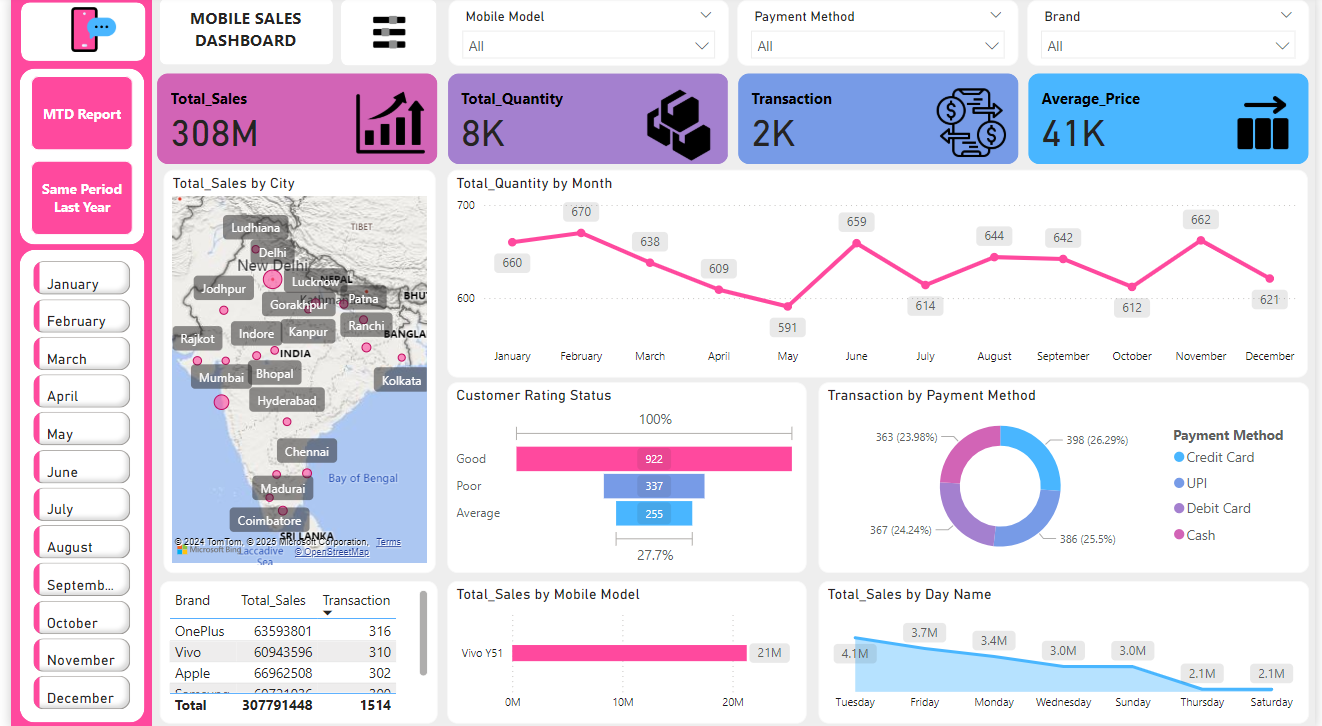

The dashboard page shown, as its layout file describes it:
{"tool":"powerbi","page":{"name":"Dashboard","canvas":[1280,720],"ordinal":0},"visuals":[{"type":"shape","box":[0,0,138.8,720],"z":0},{"type":"shape","box":[9.4,6.7,122.2,57.8],"z":1000},{"type":"image","box":[52.5,6.2,56.2,53.8],"z":2000},{"type":"cardVisual","fields":{"Data":["Mobile_Sales_Data.Total_Sales","Mobile_Sales_Data.Total_Quantity","Mobile_Sales_Data.Transaction","Mobile_Sales_Data.Average_Price"]},"box":[138.7,70.7,1141.3,99.3],"z":3000},{"type":"shape","box":[8.9,70.6,122.2,172.8],"z":4000},{"type":"shape","box":[9.2,249.2,122.5,464.2],"z":5000},{"type":"advancedSlicerVisual","fields":{"Values":["Custom_calender.Date.Variation.Date Hierarchy.Month"]},"box":[17.5,255,105,457.5],"z":6000},{"type":"slicer","fields":{"Values":["Mobile_Sales_Data.Mobile Model"]},"box":[428.9,3.3,275,64.4],"z":7000},{"type":"slicer","fields":{"Values":["Mobile_Sales_Data.Payment Method"]},"box":[713.3,3.9,276.1,65],"z":8000},{"type":"slicer","fields":{"Values":["Mobile_Sales_Data.Brand"]},"box":[997.2,3.3,276.7,64.4],"z":9000},{"type":"shape","box":[323.9,3.3,93.9,64.4],"z":10000},{"type":"shape","box":[145.6,2.8,170,65],"z":11000},{"type":"textbox","box":[150,5,161.1,56.1],"z":12000},{"type":"image","box":[349.4,15,43.9,41.7],"z":13000},{"type":"lineChart","fields":{"Category":["Custom_calender.Date.Variation.Date Hierarchy.Month"],"Y":["Mobile_Sales_Data.Total_Quantity"]},"box":[428.5,170,844.6,203.8],"z":14000},{"type":"funnel","title":"Customer  Rating Status","fields":{"Y":["CountNonNull(Mobile_Sales_Data.Customer Age)"],"Category":["Mobile_Sales_Data.Rating Status"]},"box":[428.8,378.8,352.5,187.5],"z":15000},{"type":"pieChart","fields":{"Y":["Mobile_Sales_Data.Transaction"],"Category":["Mobile_Sales_Data.Payment Method"]},"box":[792.5,378.8,481.2,187.5],"z":16000},{"type":"clusteredBarChart","fields":{"Category":["Mobile_Sales_Data.Mobile Model"],"Y":["Mobile_Sales_Data.Total_Sales"]},"box":[428.8,573.8,352.5,140],"z":17000},{"type":"areaChart","fields":{"Category":["Custom_calender.Day Name"],"Y":["Mobile_Sales_Data.Total_Sales"]},"box":[792.5,573.8,481.2,140],"z":18000},{"type":"tableEx","fields":{"Values":["Mobile_Sales_Data.Brand","Mobile_Sales_Data.Total_Sales","Mobile_Sales_Data.Transaction"]},"box":[145.5,573.6,272.7,140],"z":19000},{"type":"map","fields":{"Category":["Mobile_Sales_Data.City"],"Size":["Mobile_Sales_Data.Total_Sales"]},"box":[150,170,267.5,396.2],"z":20000},{"type":"pageNavigator","box":[20,78.8,100,156.2],"z":21000}]}

Visuals, with their boxes in screenshot pixels (x1, y1, x2, y2), scaled from the page's 1280x720 canvas onto the 1322x726 screenshot:
shape: select_region(0, 0, 143, 725)
shape: select_region(10, 7, 136, 65)
image: select_region(54, 6, 112, 60)
cardVisual - Mobile_Sales_Data.Total_Sales x Mobile_Sales_Data.Total_Quantity: select_region(143, 71, 1321, 171)
shape: select_region(9, 71, 135, 245)
shape: select_region(10, 251, 136, 719)
advancedSlicerVisual - Custom_calender.Date.Variation.Date Hierarchy.Month: select_region(18, 257, 127, 718)
slicer - Mobile_Sales_Data.Mobile Model: select_region(443, 3, 727, 68)
slicer - Mobile_Sales_Data.Payment Method: select_region(737, 4, 1022, 69)
slicer - Mobile_Sales_Data.Brand: select_region(1030, 3, 1316, 68)
shape: select_region(335, 3, 432, 68)
shape: select_region(150, 3, 326, 68)
textbox: select_region(155, 5, 321, 62)
image: select_region(361, 15, 406, 57)
lineChart - Custom_calender.Date.Variation.Date Hierarchy.Month x Mobile_Sales_Data.Total_Quantity: select_region(443, 171, 1315, 377)
"Customer  Rating Status" funnel: select_region(443, 382, 807, 571)
pieChart - Mobile_Sales_Data.Transaction x Mobile_Sales_Data.Payment Method: select_region(819, 382, 1315, 571)
clusteredBarChart - Mobile_Sales_Data.Mobile Model x Mobile_Sales_Data.Total_Sales: select_region(443, 579, 807, 720)
areaChart - Custom_calender.Day Name x Mobile_Sales_Data.Total_Sales: select_region(819, 579, 1315, 720)
tableEx - Mobile_Sales_Data.Brand x Mobile_Sales_Data.Total_Sales: select_region(150, 578, 432, 720)
map - Mobile_Sales_Data.City x Mobile_Sales_Data.Total_Sales: select_region(155, 171, 431, 571)
pageNavigator: select_region(21, 79, 124, 237)
